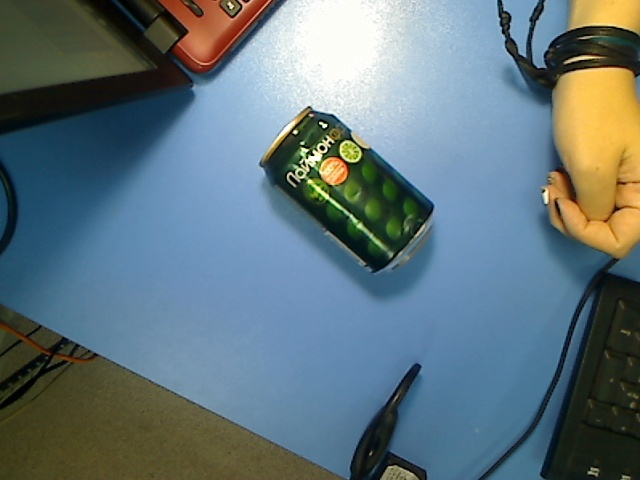can: (255, 105, 440, 278)
